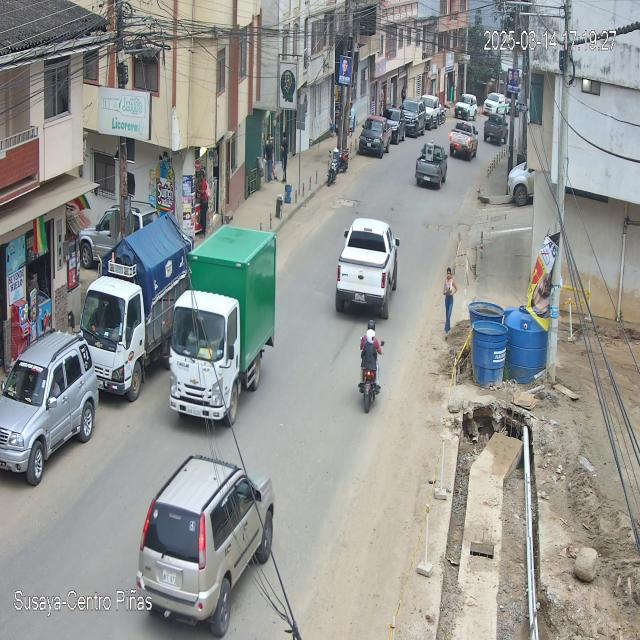CMT: (335, 218, 398, 322)
MOTORCYCLE: (355, 361, 385, 411)
SUV: (136, 455, 274, 637), (1, 332, 99, 479)
TRUCK: (169, 224, 277, 426), (79, 213, 191, 404)
